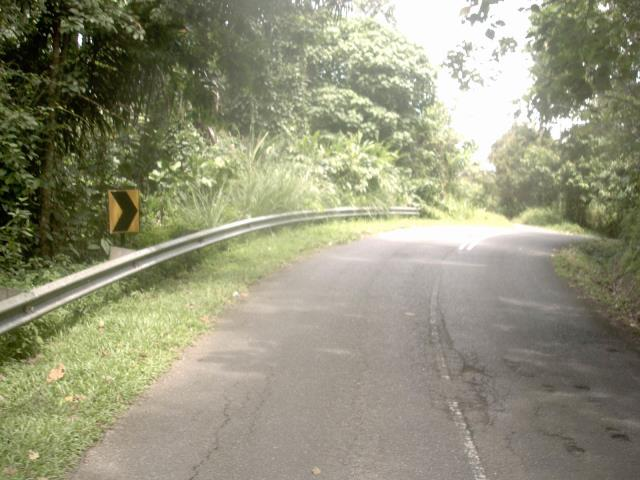traffic_sign: (98, 180, 148, 241)
